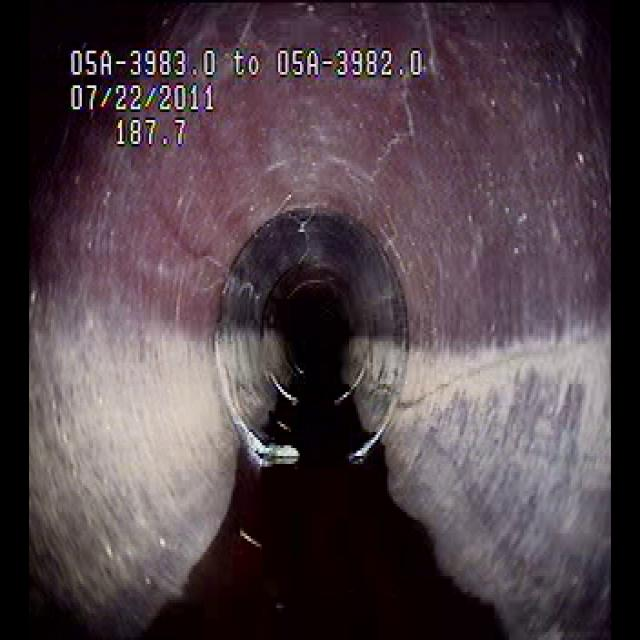Crack: (418, 316, 570, 420)
